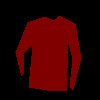abbigliamento_uomo: (15, 15, 81, 91)
